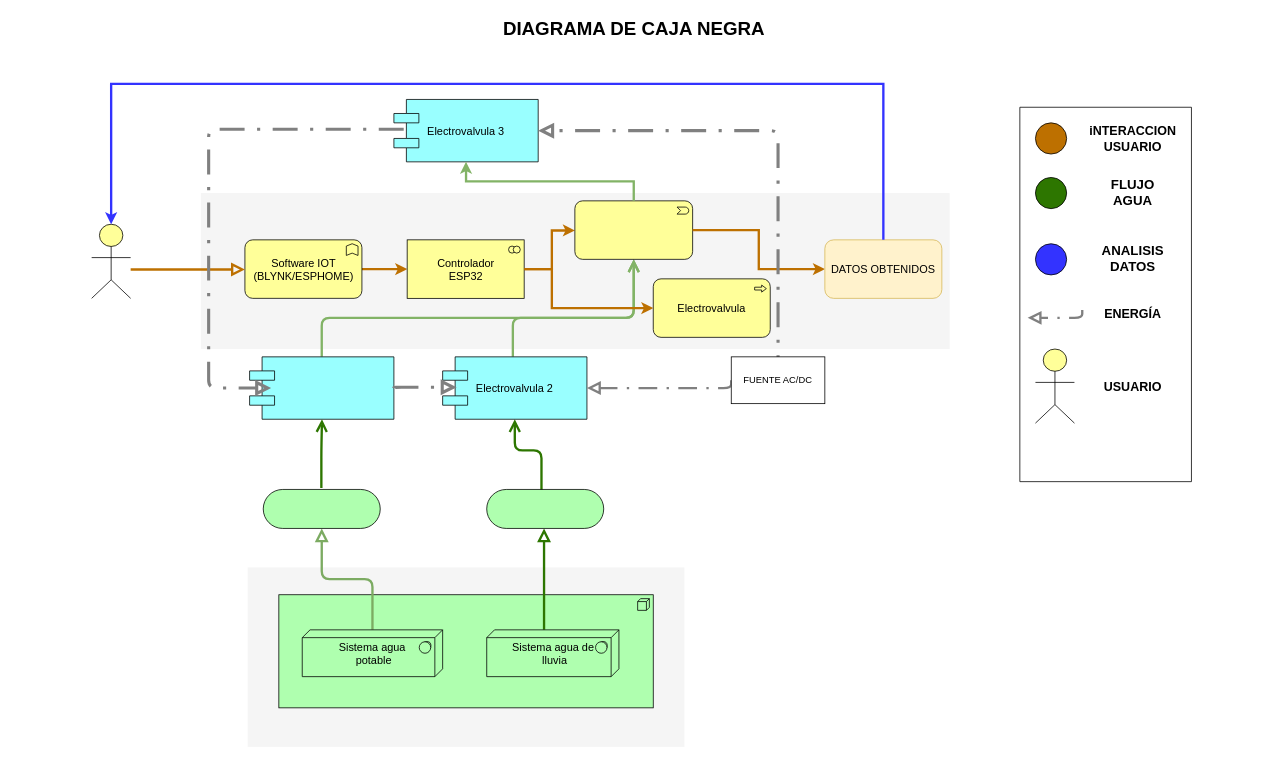
Image size: 1267x760. Some labels were removed from this diagram. The shapes that lost their labels are listed below. From the top down, each one's centre as x and y in pixels, then its label:
At [633,229]: "Sensor De Flujo".
At [321,387]: "Electrovalvula 1".
At [321,508]: "Agua potable".
At [545,508]: "Agua de lluvia".
